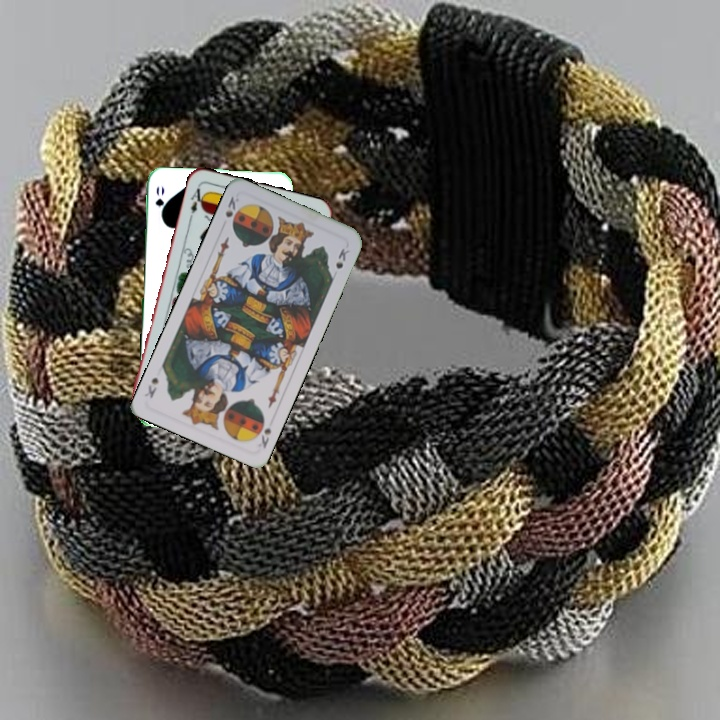EA: (185, 182, 208, 222)
GO: (151, 182, 167, 222)
SK: (221, 192, 242, 220), (254, 422, 274, 451)
